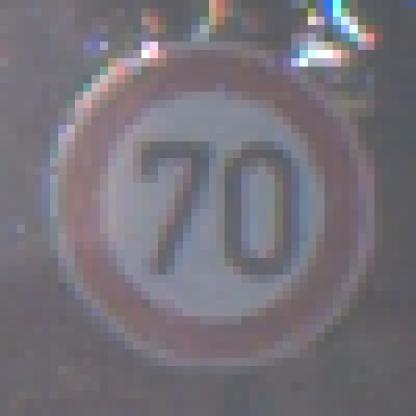Speed Limit 70: (63, 48, 362, 362)
